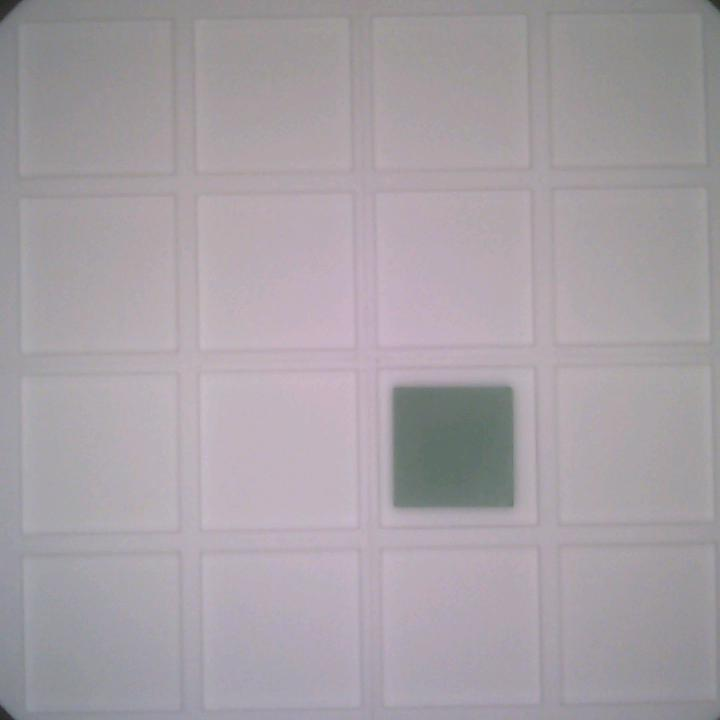Green square: (382, 378, 526, 509)
